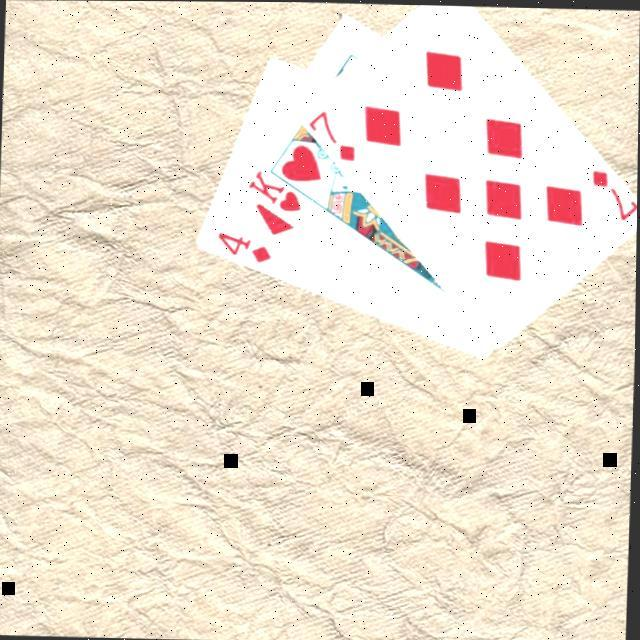4D: (212, 228, 274, 264)
7D: (305, 104, 359, 164), (586, 164, 638, 222)
KH: (243, 164, 305, 213)
